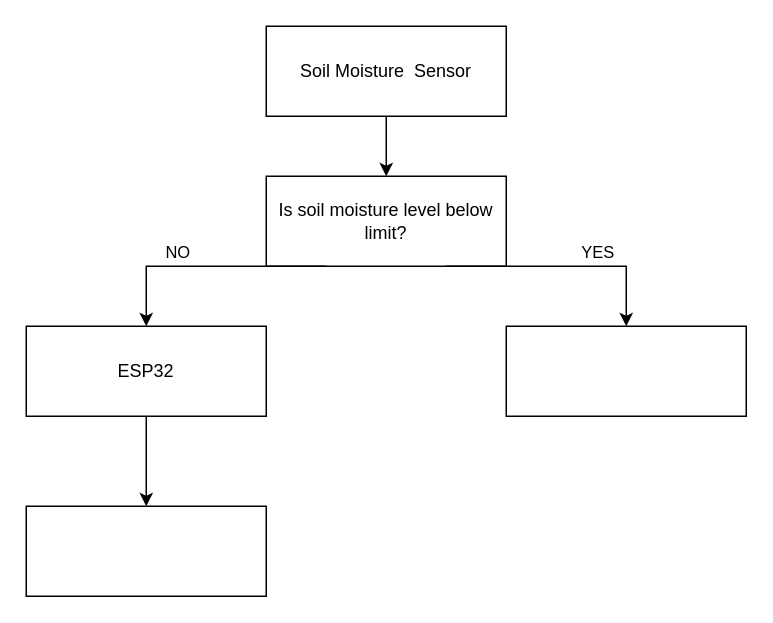
Image size: 773x623. Some labels were removed from this diagram. The centre of each missing label's shape, as x and y in pixels:
"Move to next check" belongs at point 625,370.
"Trigger Water Pump" belongs at point 145,550.
